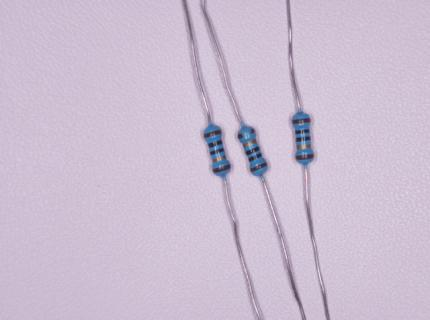Black band: (245, 146, 260, 156), (208, 140, 223, 149), (249, 152, 262, 162), (210, 148, 225, 155), (296, 136, 310, 142), (295, 129, 310, 134)
Brown band: (238, 128, 255, 140), (250, 162, 267, 173), (213, 164, 231, 173), (204, 130, 222, 138), (295, 154, 313, 160), (292, 118, 310, 123)
Gold band: (243, 138, 257, 148), (212, 156, 226, 163), (297, 144, 311, 149)
